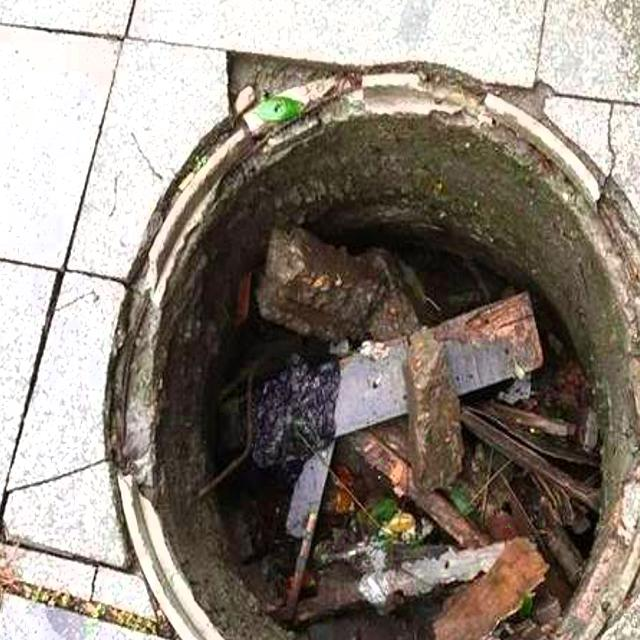lose: (99, 74, 640, 640)
